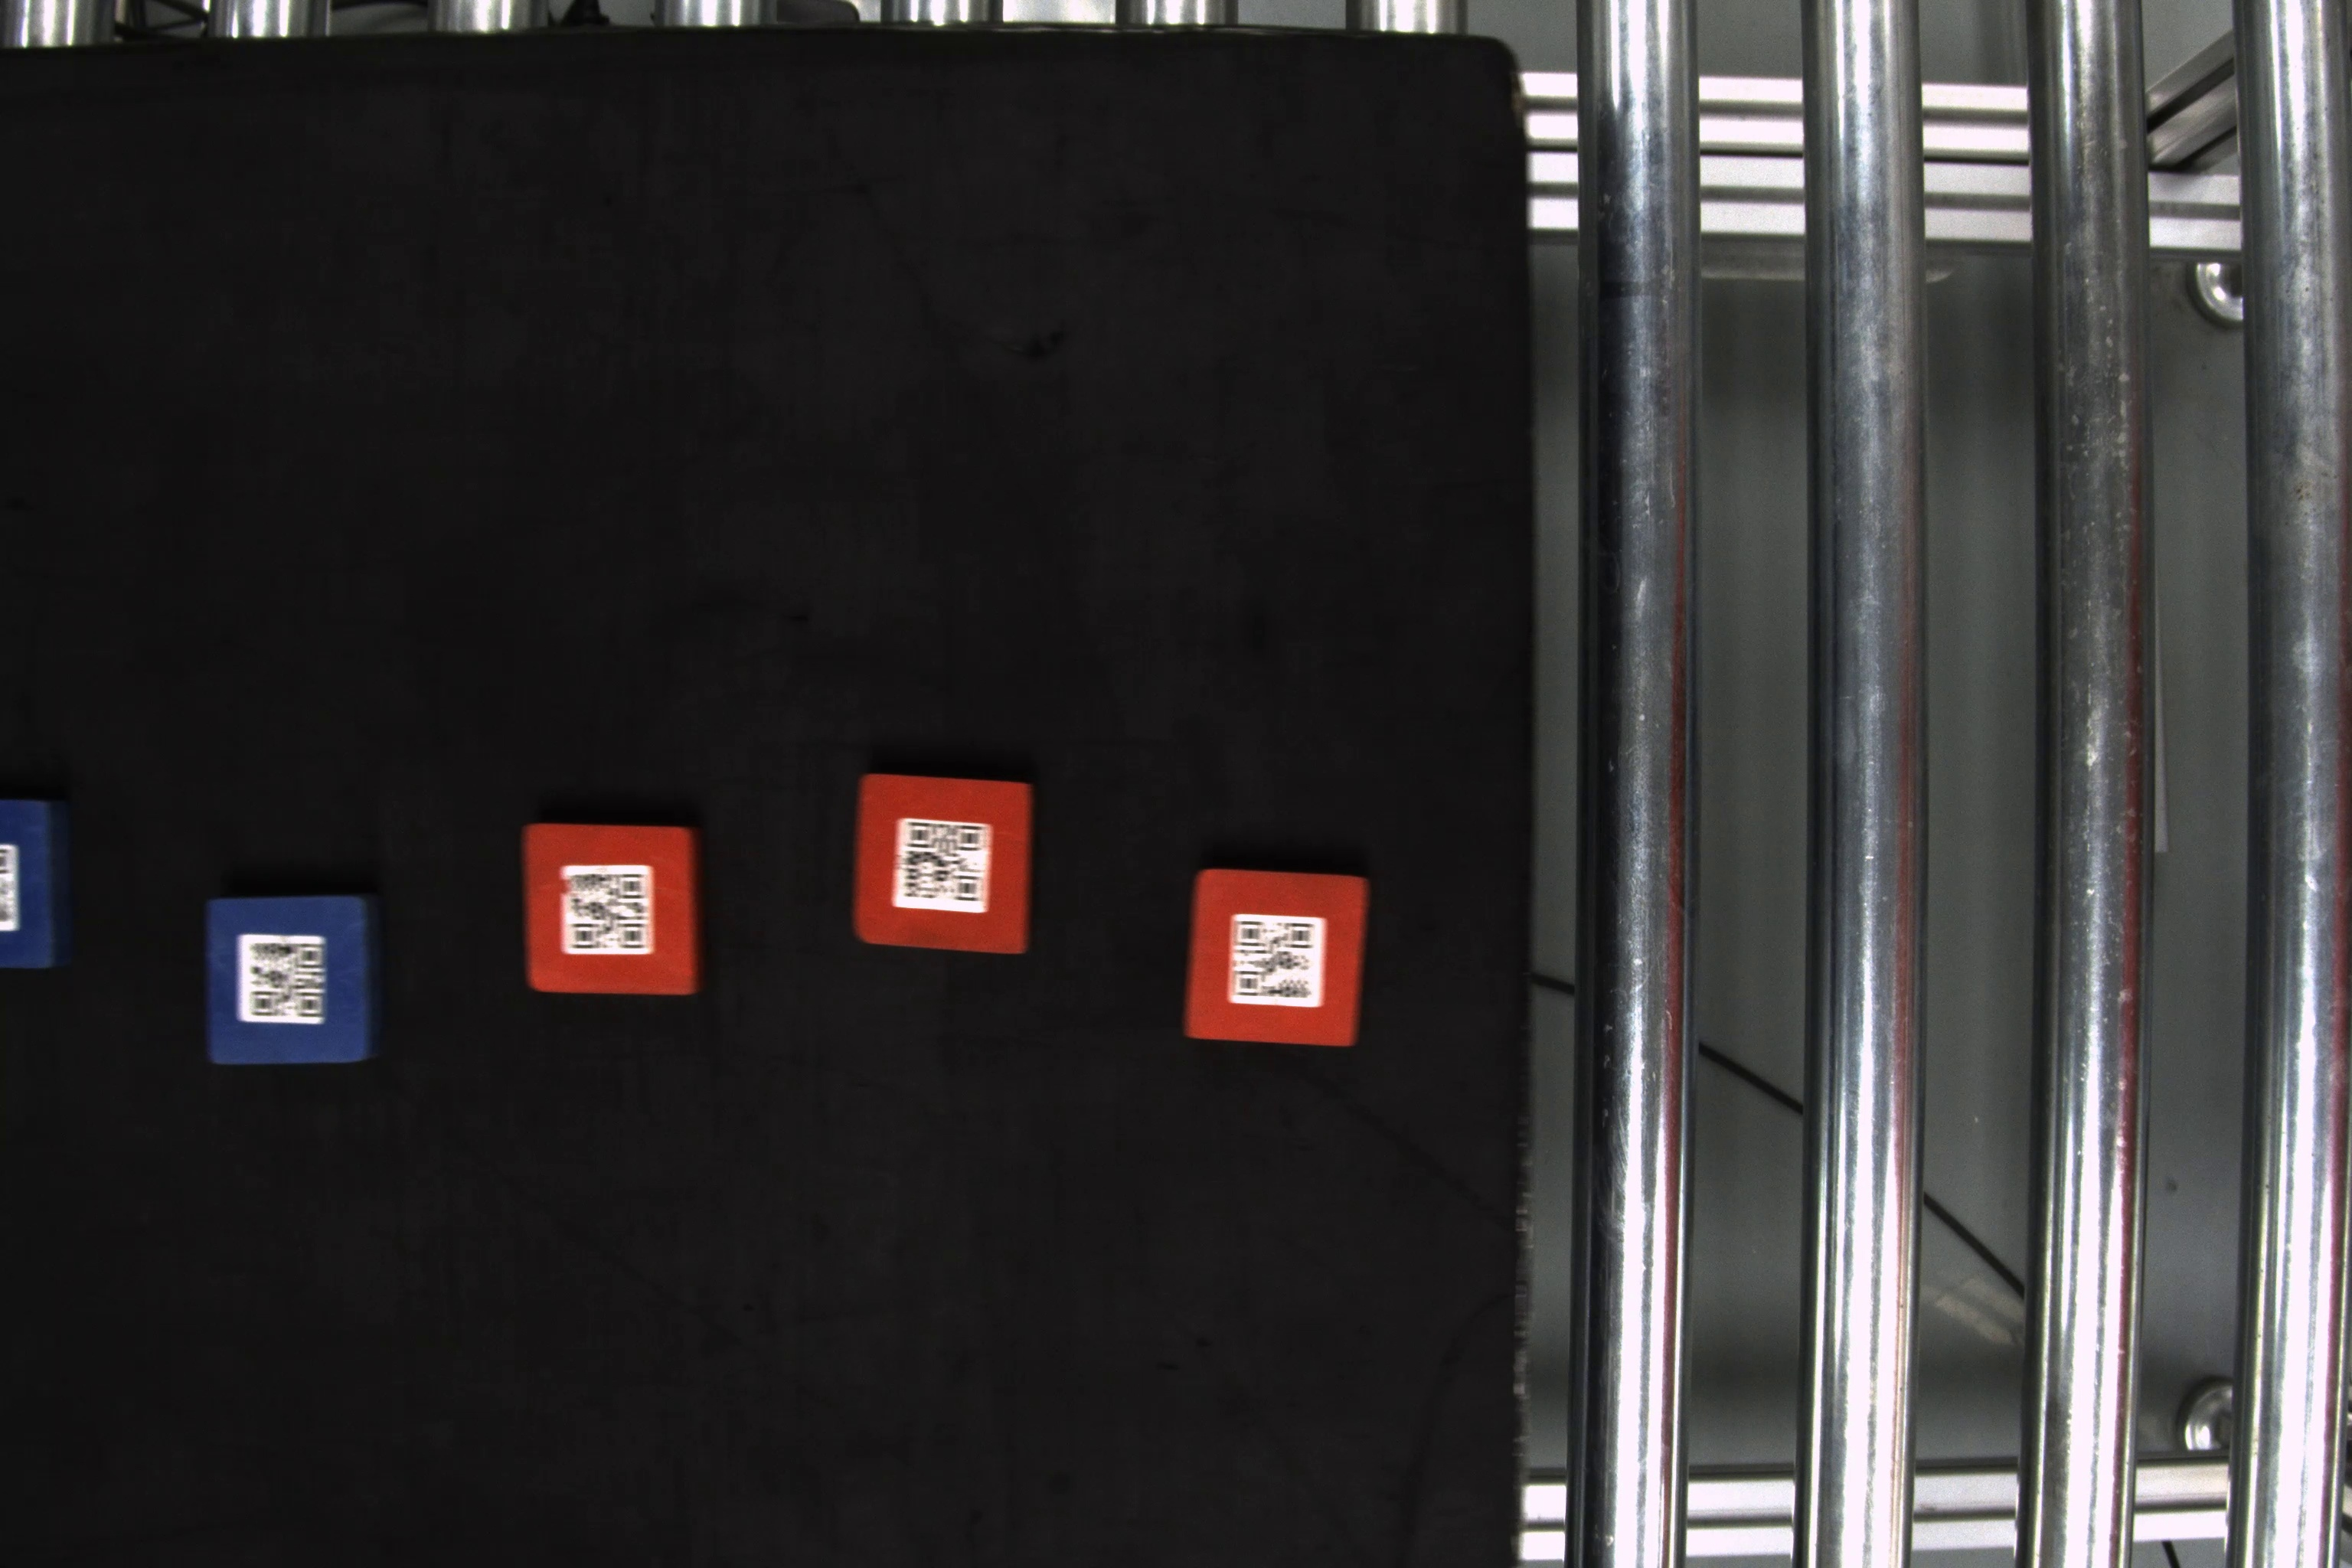wood: (843, 766, 1043, 962), (514, 821, 710, 1006), (1185, 861, 1375, 1048), (203, 891, 383, 1066), (7, 793, 82, 973)
